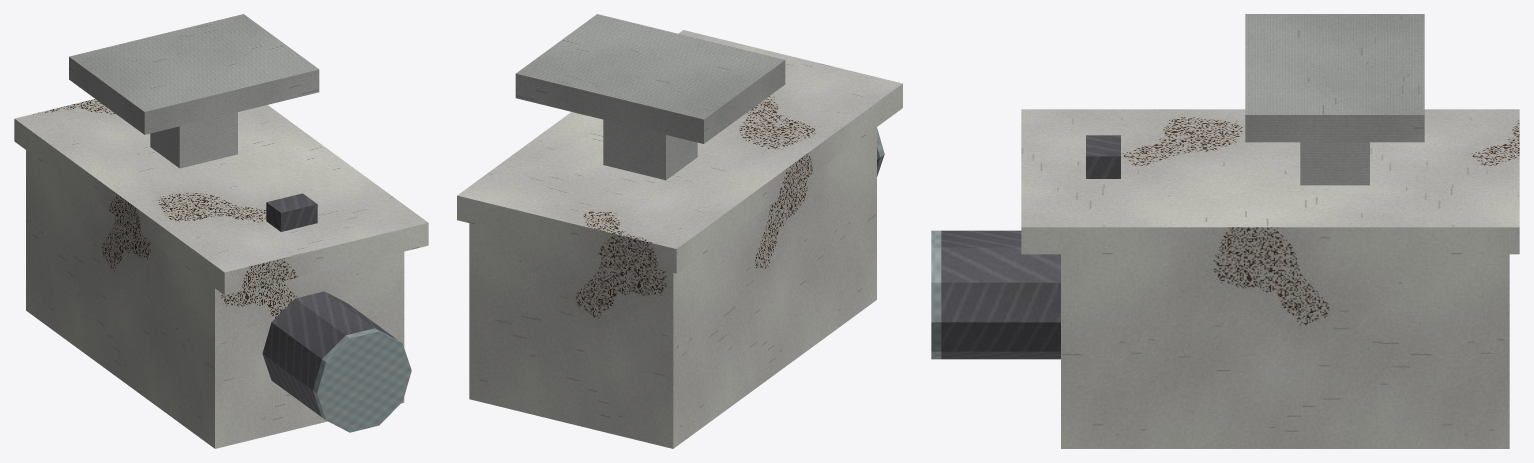
The model's file is camera2.glb.
The picture shows the model from 3 angles, left to right: view 1: azimuth 30°, elevation 25°; view 2: azimuth 150°, elevation 25°; view 3: azimuth 270°, elevation 25°; orthographic projection. The views are drawn at different scales.
Visible parts, largest first — view 1: NC_camera2; view 2: NC_camera2; view 3: NC_camera2.
Boxes of the visible parts, x1=… form: NC_camera2: x1=14, y1=14, x2=428, y2=448; NC_camera2: x1=457, y1=14, x2=902, y2=448; NC_camera2: x1=931, y1=14, x2=1519, y2=448.
Size of the model in its own units: 0.112 by 0.146 by 0.236.
4 materials, 4 textured.
